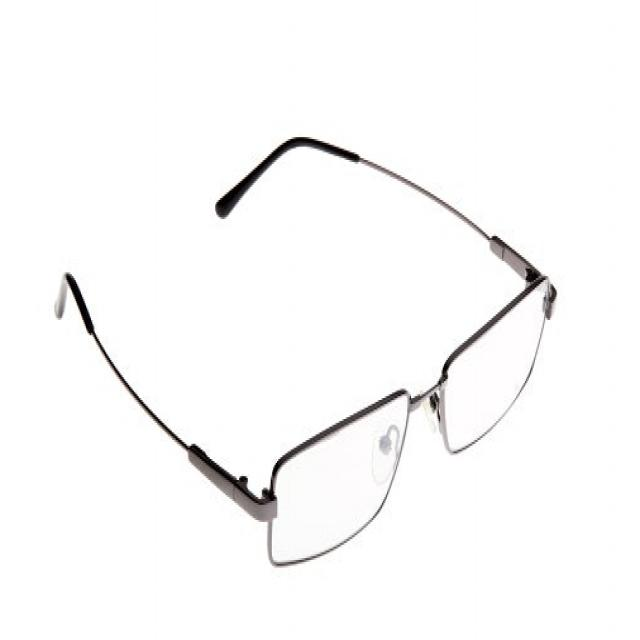Glasses: (52, 122, 561, 579)
